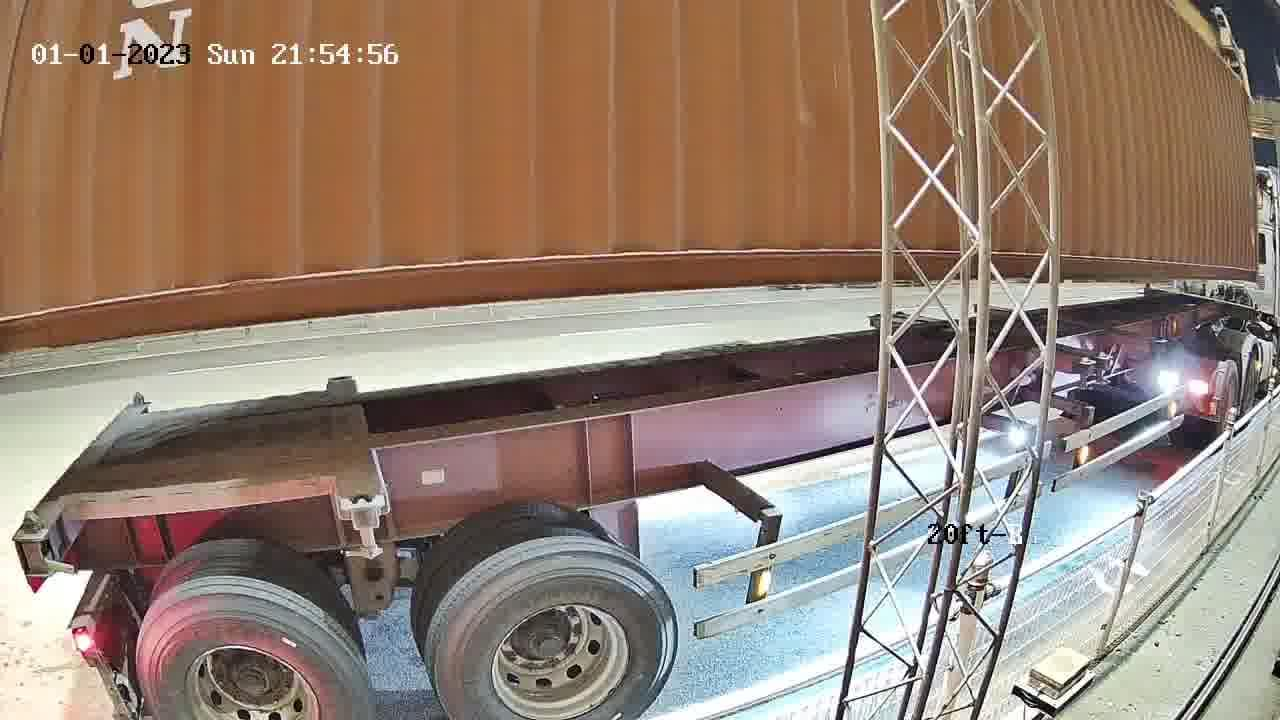Chassis: (13, 405, 150, 552)
Cone: (13, 510, 66, 576), (123, 389, 151, 410)
Tire: (427, 547, 675, 712), (134, 583, 376, 719)
